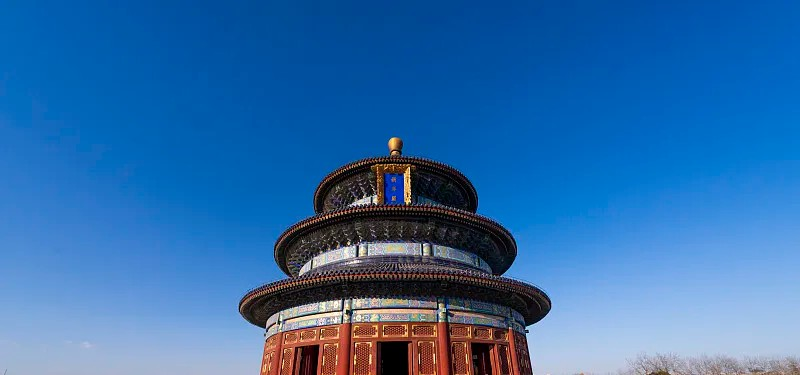Heaven: (235, 134, 555, 375)
